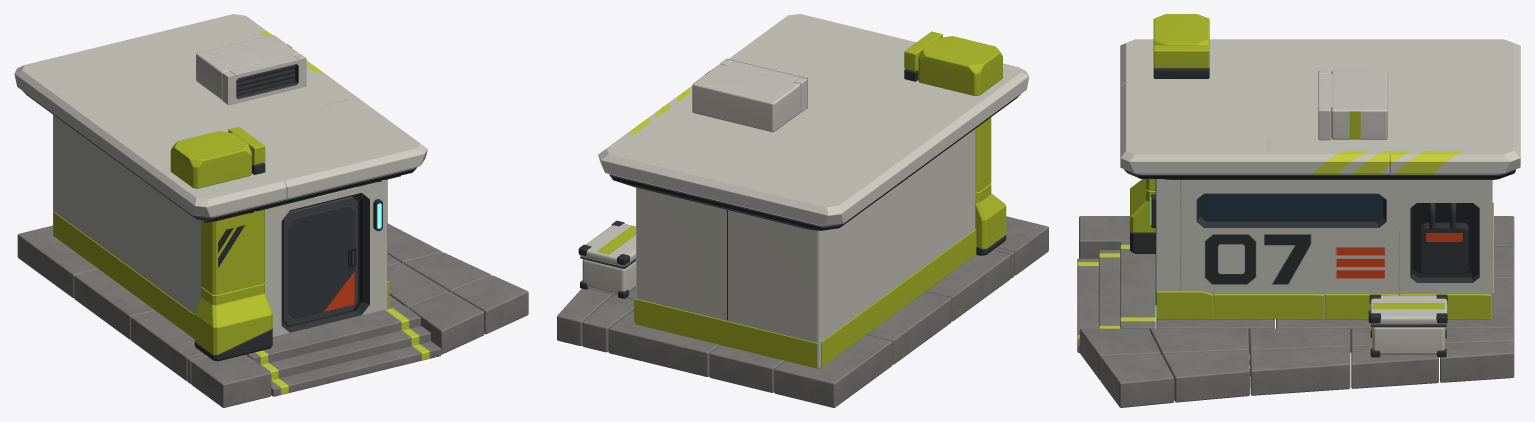
Rendered from frontier-relay-07-v10.glb.
3 views of the same model, side by side, from view 1: azimuth 30°, elevation 25°; view 2: azimuth 150°, elevation 25°; view 3: azimuth 270°, elevation 25° (orthographic). The views are drawn at different scales.
Visible parts, largest first — view 1: Continuous clipped fascia, Left enclosed flank, Door leaf inset field, Entry cutout | surround, Equipment column | vertical upper shell, Equipment column | flared lower shell, Entry tread 3, Yellow roof utility cover, Left continuous base strip, Left deck 1.1, Entry tread 2, Entry tread 1 (+17 smaller); view 2: Continuous clipped fascia, Back enclosed wall, Left enclosed flank, HVAC structure rear, Core deck 1.3, Rear continuous base strip, Left continuous base strip, Yellow roof utility cover, Core deck 3.3, Core deck 1.2, Core deck 1.1, Core deck 2.3 (+10 smaller); view 3: Continuous clipped fascia, Horizontal aperture | surround, Side service aperture | surround, Tinted window backing, Right apron tile 3.2, Right apron tile 2.2, HVAC structure rear, Right apron tile 1.2, Right apron tile 4.2, Side base enamel panel 2, Entry tread 3, Right apron tile 5.2 (+30 smaller).
Boxes of the visible parts, left/top/right/bottom form: Continuous clipped fascia: left=14, top=14, right=427, bottom=217; Left enclosed flank: left=53, top=115, right=201, bottom=314; Door leaf inset field: left=288, top=205, right=354, bottom=318; Entry cutout | surround: left=264, top=179, right=387, bottom=336; Equipment column | vertical upper shell: left=201, top=209, right=264, bottom=294; Equipment column | flared lower shell: left=194, top=282, right=272, bottom=354; Entry tread 3: left=246, top=305, right=420, bottom=364; Yellow roof utility cover: left=170, top=131, right=251, bottom=188; Left continuous base strip: left=53, top=211, right=194, bottom=338; Left deck 1.1: left=191, top=354, right=271, bottom=407; Entry tread 2: left=261, top=326, right=430, bottom=380; Entry tread 1: left=271, top=341, right=441, bottom=396; Continuous clipped fascia: left=598, top=14, right=1029, bottom=226; Back enclosed wall: left=636, top=188, right=818, bottom=367; Left enclosed flank: left=818, top=129, right=975, bottom=368; HVAC structure rear: left=692, top=64, right=800, bottom=132; Core deck 1.3: left=774, top=334, right=892, bottom=407; Rear continuous base strip: left=635, top=299, right=817, bottom=368; Left continuous base strip: left=821, top=229, right=976, bottom=367; Yellow roof utility cover: left=918, top=36, right=1002, bottom=95; Core deck 3.3: left=608, top=310, right=720, bottom=376; Core deck 1.2: left=867, top=291, right=951, bottom=364; Core deck 1.1: left=926, top=250, right=1010, bottom=321; Core deck 2.3: left=709, top=345, right=784, bottom=392; Continuous clipped fascia: left=1120, top=39, right=1520, bottom=174; Horizontal aperture | surround: left=1156, top=179, right=1398, bottom=318; Side service aperture | surround: left=1399, top=180, right=1491, bottom=318; Tinted window backing: left=1200, top=193, right=1382, bottom=221; Right apron tile 3.2: left=1250, top=347, right=1350, bottom=395; Right apron tile 2.2: left=1162, top=350, right=1249, bottom=402; HVAC structure rear: left=1331, top=70, right=1387, bottom=139; Right apron tile 1.2: left=1100, top=353, right=1174, bottom=407; Right apron tile 4.2: left=1351, top=346, right=1438, bottom=388; Side base enamel panel 2: left=1213, top=294, right=1324, bottom=319; Entry tread 3: left=1120, top=241, right=1155, bottom=331; Right apron tile 5.2: left=1440, top=341, right=1514, bottom=382.
Size of the model in its own units: 6.36 by 4.06 by 7.02.
Materials: 16 (5 with a texture image).
